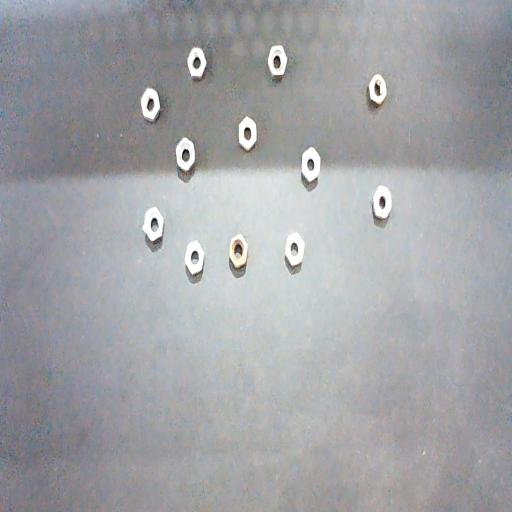nut: (144, 206, 164, 243), (141, 87, 161, 123), (372, 185, 392, 221), (176, 137, 195, 173), (185, 240, 204, 276), (229, 234, 248, 270), (285, 232, 304, 268), (268, 45, 287, 80), (239, 116, 257, 152), (368, 74, 387, 108), (187, 48, 207, 80), (302, 148, 320, 183)
